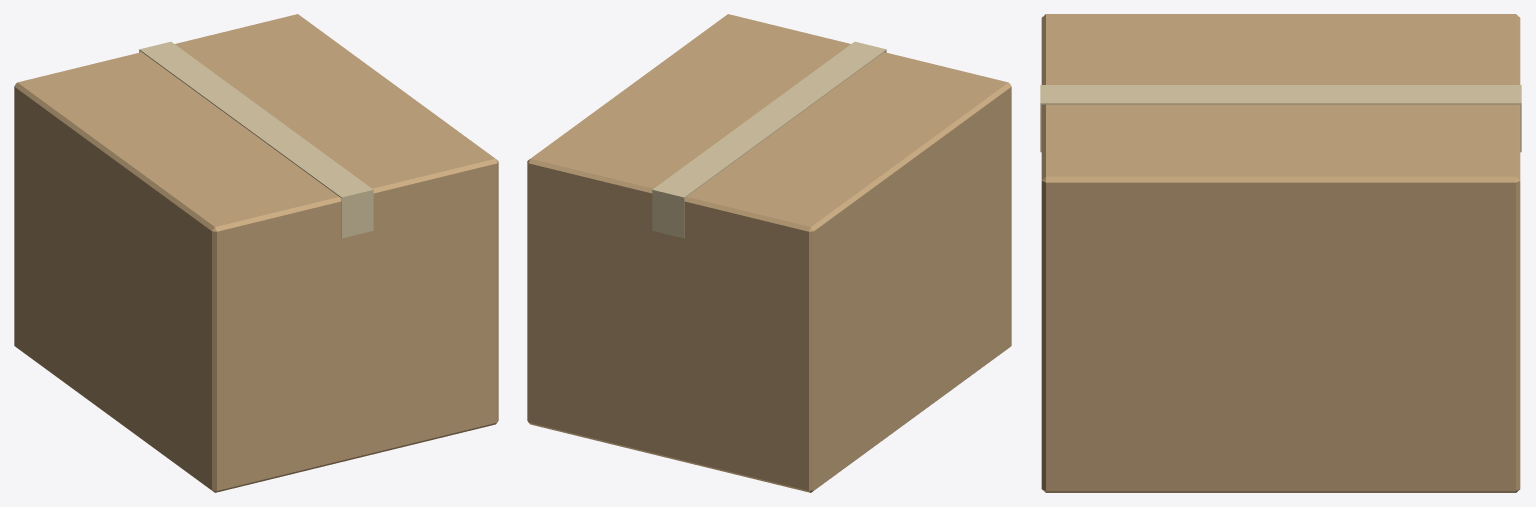
3 views of the same model, side by side, from view 1: azimuth 30°, elevation 25°; view 2: azimuth 150°, elevation 25°; view 3: azimuth 270°, elevation 25° (orthographic). The views are drawn at different scales.
Parts seen in each view (by area): view 1: box_140; view 2: box_140; view 3: box_140.
Boxes of the visible parts, x1,y1,x2,y2 form: box_140: [14, 14, 498, 492]; box_140: [527, 14, 1011, 492]; box_140: [1040, 14, 1521, 492].
Size of the model in its own units: 0.45 by 0.4 by 0.55.
